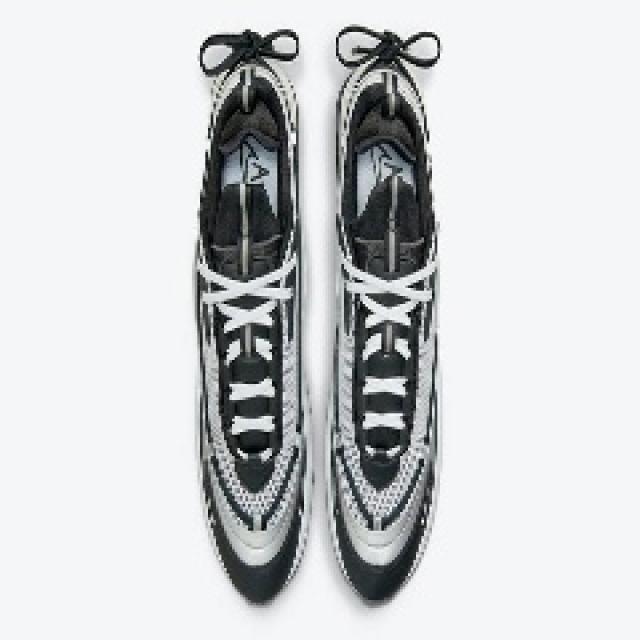shoes: (169, 10, 316, 617), (319, 13, 462, 621)
